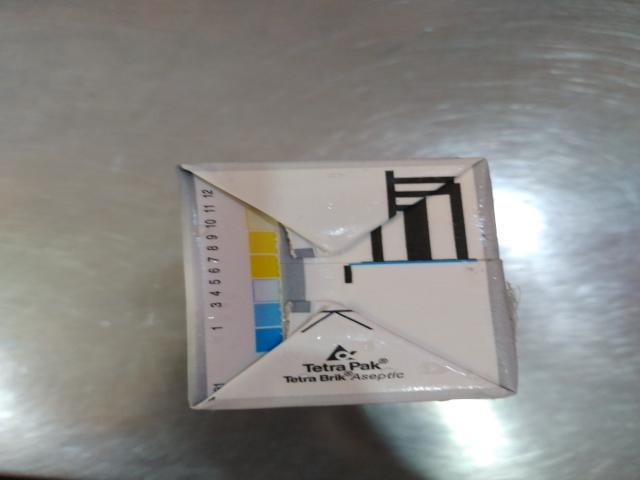drink_box: (145, 140, 582, 430)
